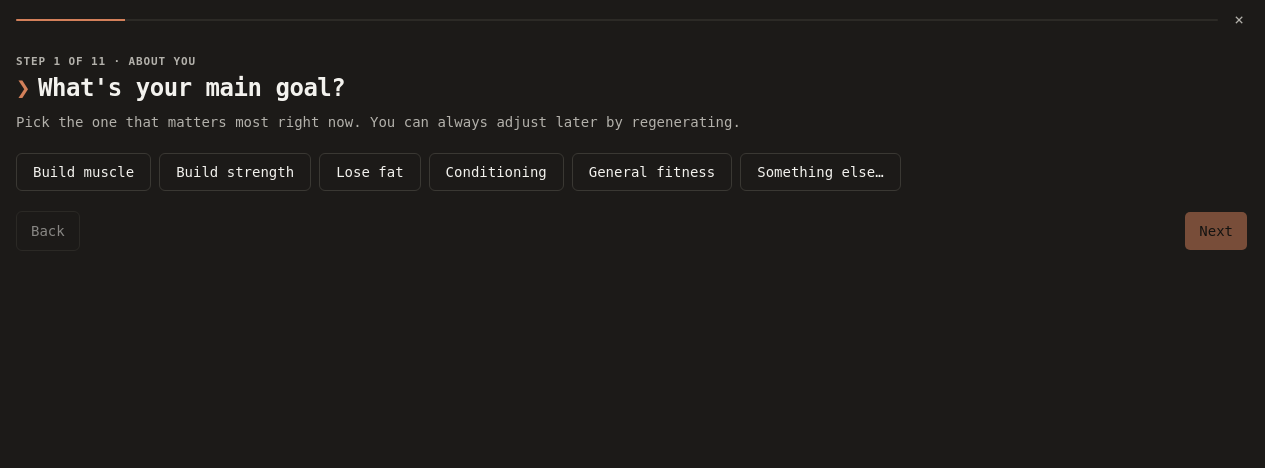
Test case: QuestionnaireScreen › auto-advances from step 1 to step 2 after a preset chip tap
The image size is (1265, 468).
Step 1. Click the button labelled "Build muscle" → (84, 172), box x1=16 y1=153 x2=151 y2=191
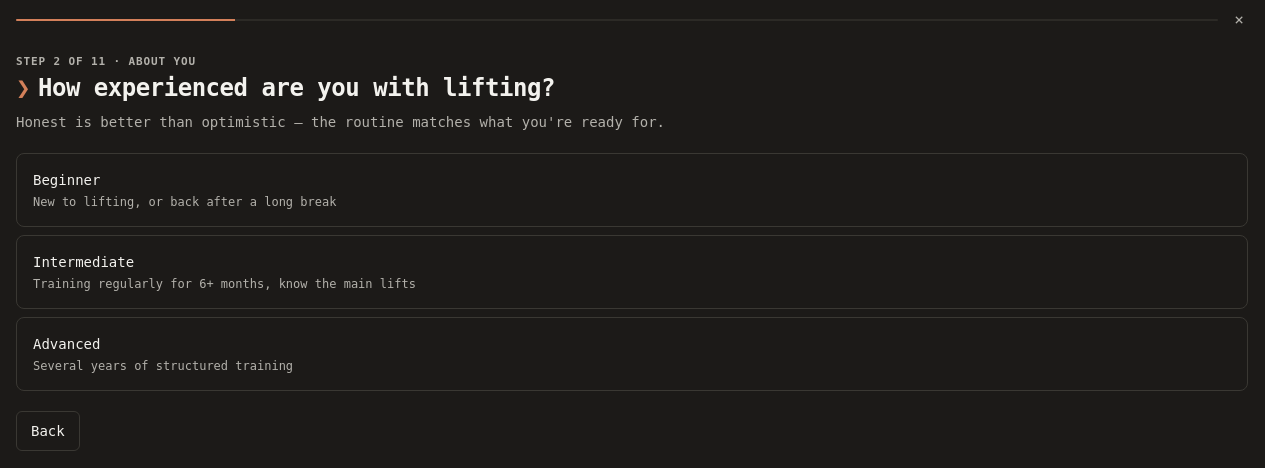
Expected: the heading "❯ How experienced are you with lifting?" is shown, x1=16 y1=74 x2=555 y2=102
